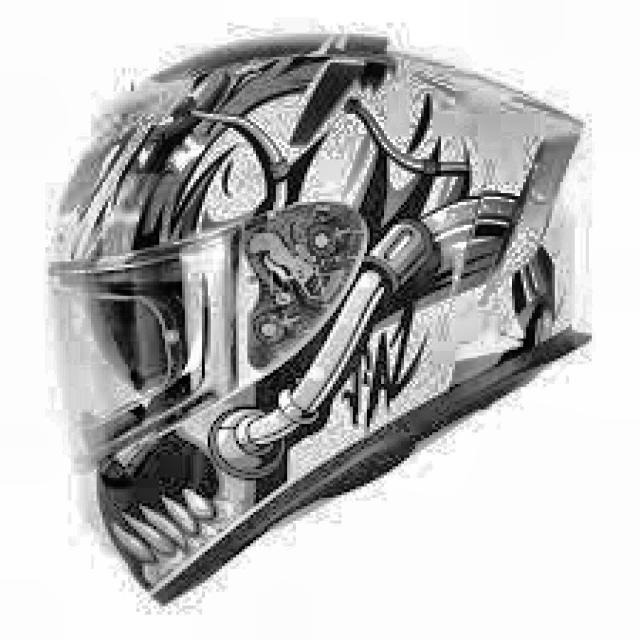Helmet: (45, 31, 614, 616)
